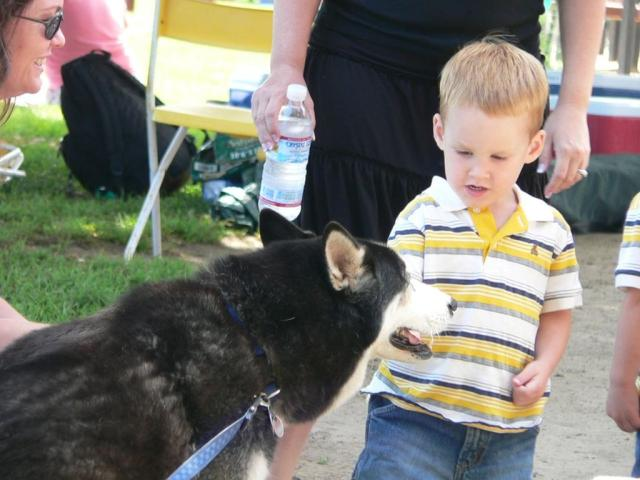Dog: (0, 206, 456, 479)
